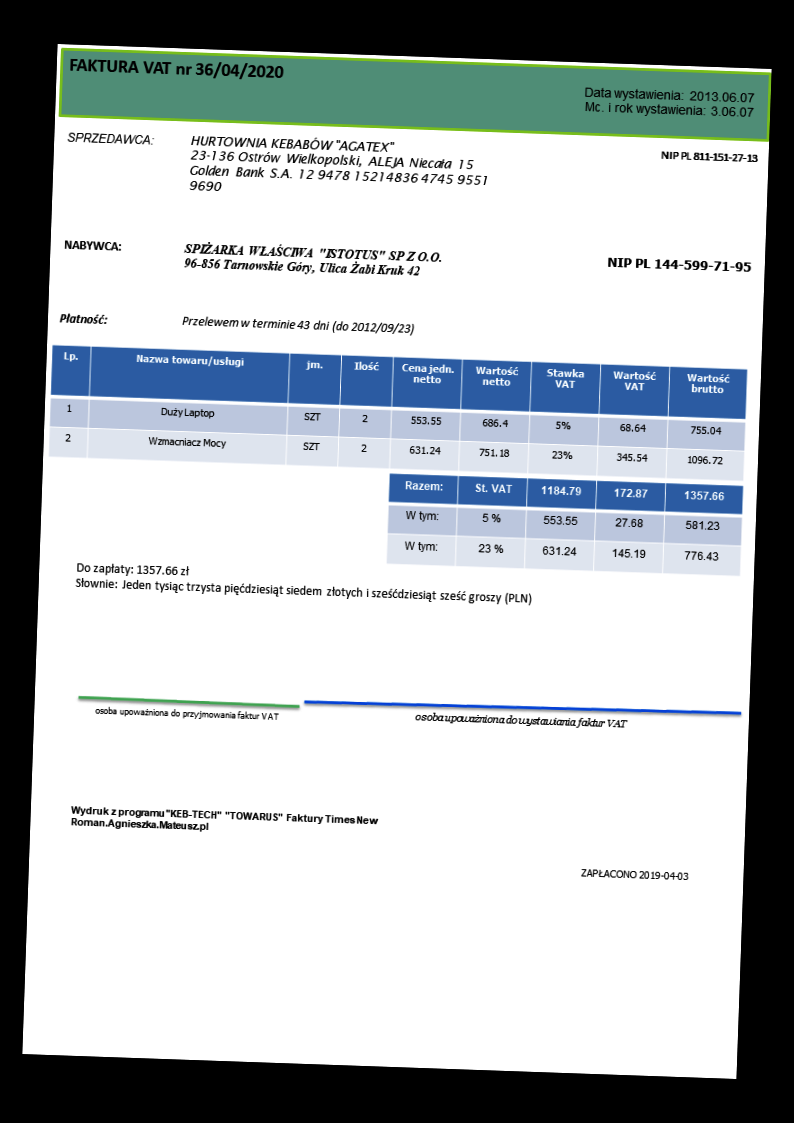Table: (47, 343, 749, 481), (385, 473, 744, 577)
TextBox: (73, 560, 534, 611), (186, 131, 491, 206), (69, 803, 381, 840), (181, 239, 444, 280), (580, 84, 757, 122), (66, 54, 286, 83), (178, 312, 415, 337), (412, 708, 629, 732), (94, 704, 281, 723), (604, 255, 752, 274), (578, 865, 691, 884), (65, 126, 155, 147), (658, 148, 760, 165), (61, 237, 125, 253), (57, 310, 109, 328)
